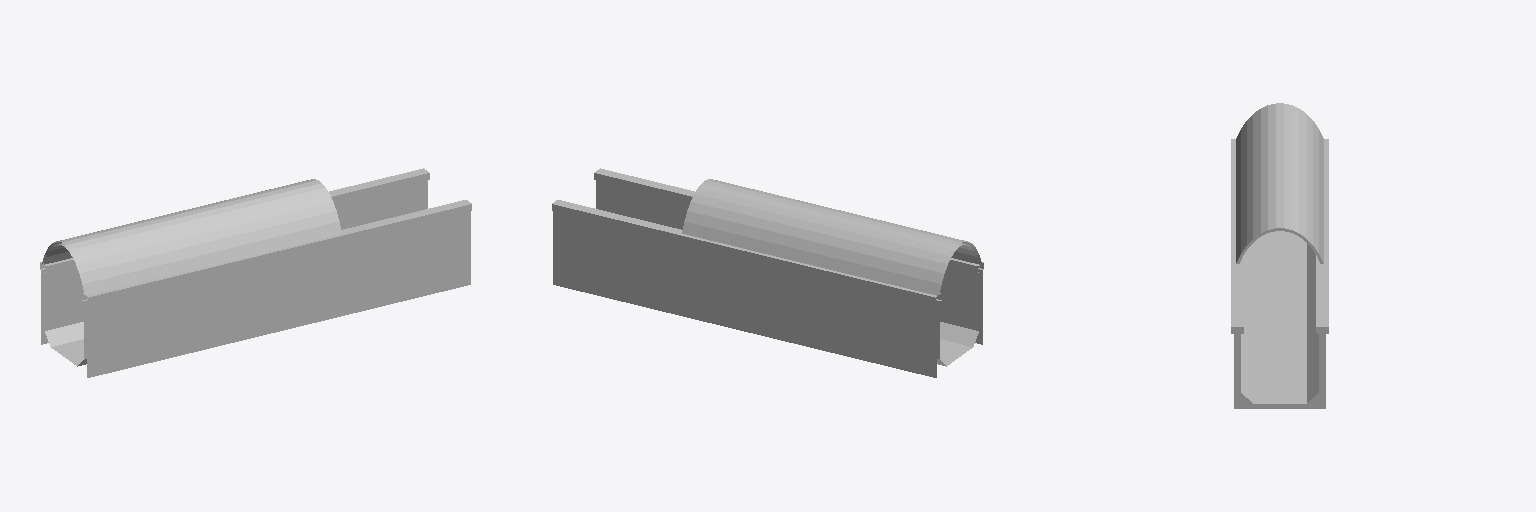
The model's file is tunnel.obj.
The picture shows the model from 3 angles: view 1: azimuth 30°, elevation 25°; view 2: azimuth 150°, elevation 25°; view 3: azimuth 270°, elevation 25°; orthographic projection.
Visible parts, largest first — view 1: Cube; view 2: Cube; view 3: Cube.
Boxes of the visible parts, <box> form: Cube: <box>40,168,471,377</box>; Cube: <box>552,168,983,377</box>; Cube: <box>1231,103,1328,408</box>.
Bounding box in the file's own units: 109 × 32.03 × 23.96.